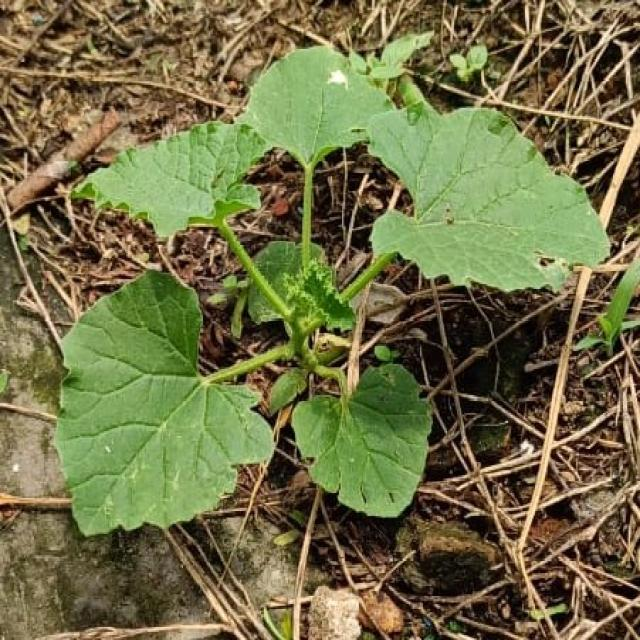plant: (55, 42, 608, 538), (55, 47, 609, 536), (75, 124, 270, 237), (292, 366, 431, 517), (311, 144, 414, 282), (224, 149, 302, 257)
